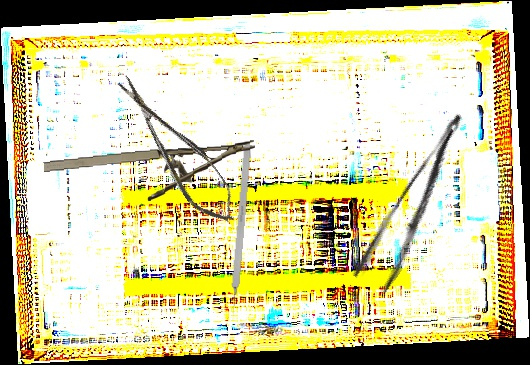Dressing Forceps: (348, 110, 491, 297)
Hook Surgical: (228, 143, 252, 321)
Micro Scissor: (108, 63, 246, 235)
Needle Holder: (42, 140, 259, 208)
